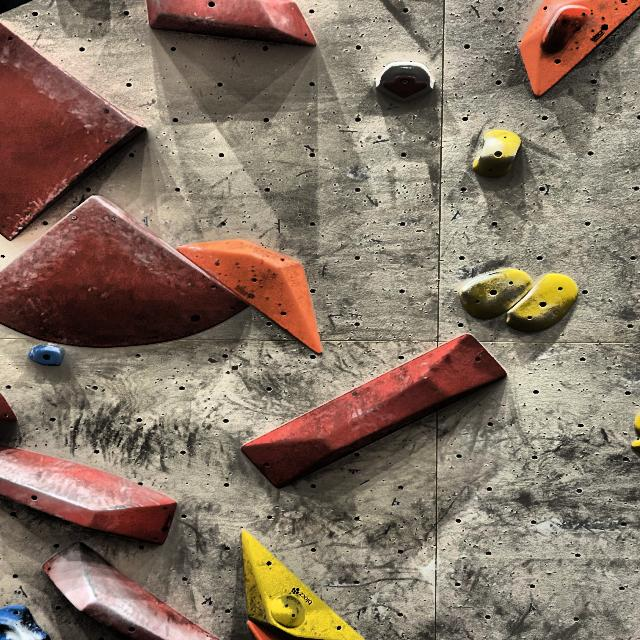Downclimb: (378, 62, 434, 100)
Hold: (506, 274, 578, 331), (460, 269, 533, 319), (542, 4, 590, 52), (473, 129, 521, 177), (0, 606, 50, 640), (270, 595, 304, 629)
Macro: (242, 335, 505, 487), (0, 197, 247, 347), (0, 22, 145, 239), (0, 444, 176, 544), (44, 543, 220, 640), (147, 0, 315, 46)
Volume: (179, 239, 322, 354), (242, 531, 364, 640), (520, 0, 640, 97)
